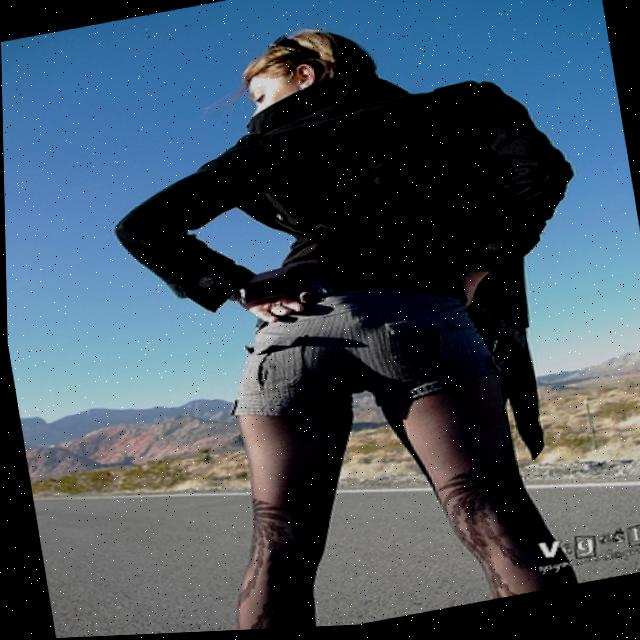pistol: (235, 249, 330, 316)
